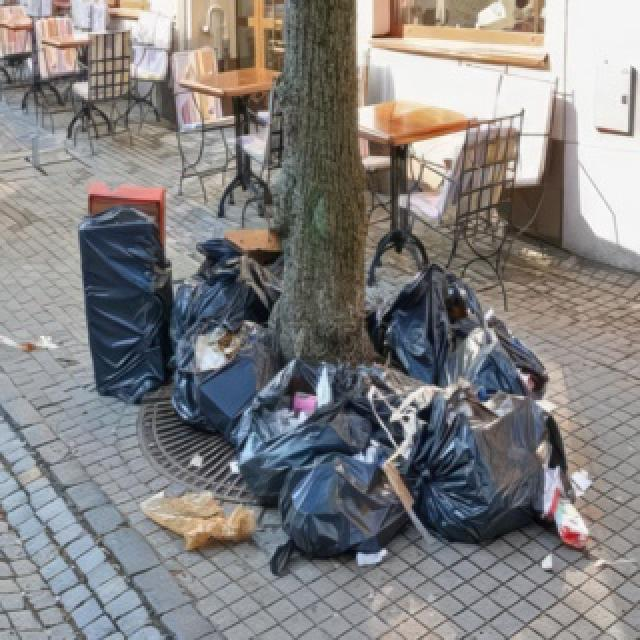Trashbag: (416, 391, 550, 542), (234, 361, 362, 499), (284, 454, 408, 564), (170, 240, 287, 337), (378, 272, 480, 380), (444, 326, 548, 414)
